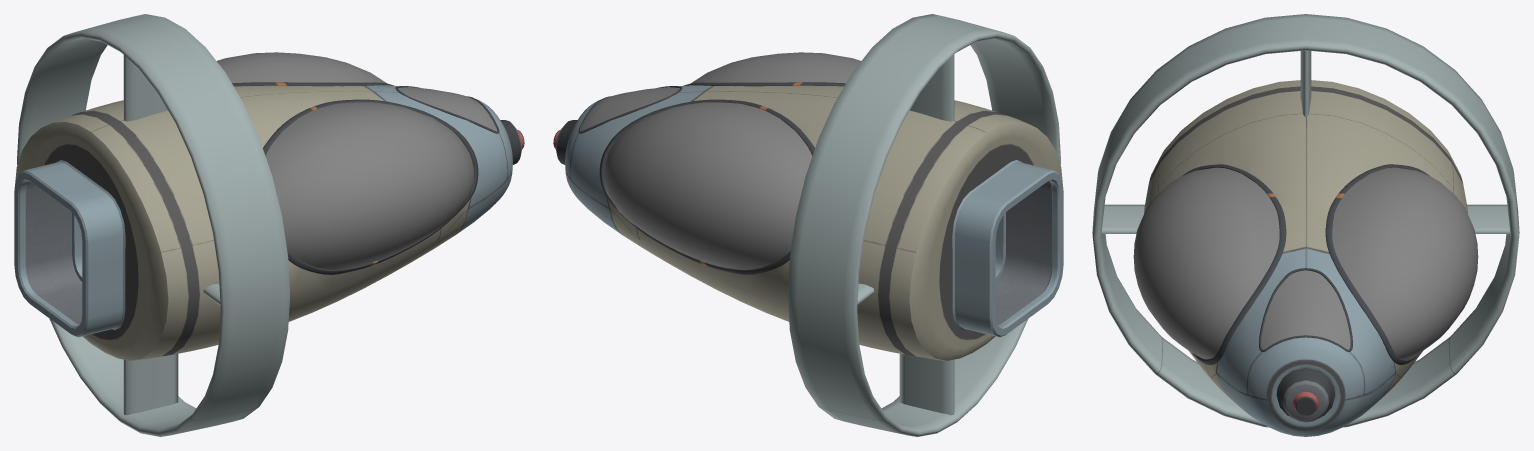
3 renders of one model, left to right at view 1: azimuth 30°, elevation 25°; view 2: azimuth 150°, elevation 25°; view 3: azimuth 270°, elevation 25°, orthographic.
Visible parts, largest first — view 1: Spaceshuttle_F1293C99; view 2: Spaceshuttle_F1293C99; view 3: Spaceshuttle_F1293C99.
Boxes of the visible parts, x1,y1,x2,y2 form: Spaceshuttle_F1293C99: [14, 14, 524, 436]; Spaceshuttle_F1293C99: [553, 14, 1063, 436]; Spaceshuttle_F1293C99: [1092, 14, 1519, 436].
Bounding box in the file's own units: 7.79 × 6.02 × 6.02.
Materials: 2 (1 with a texture image).
